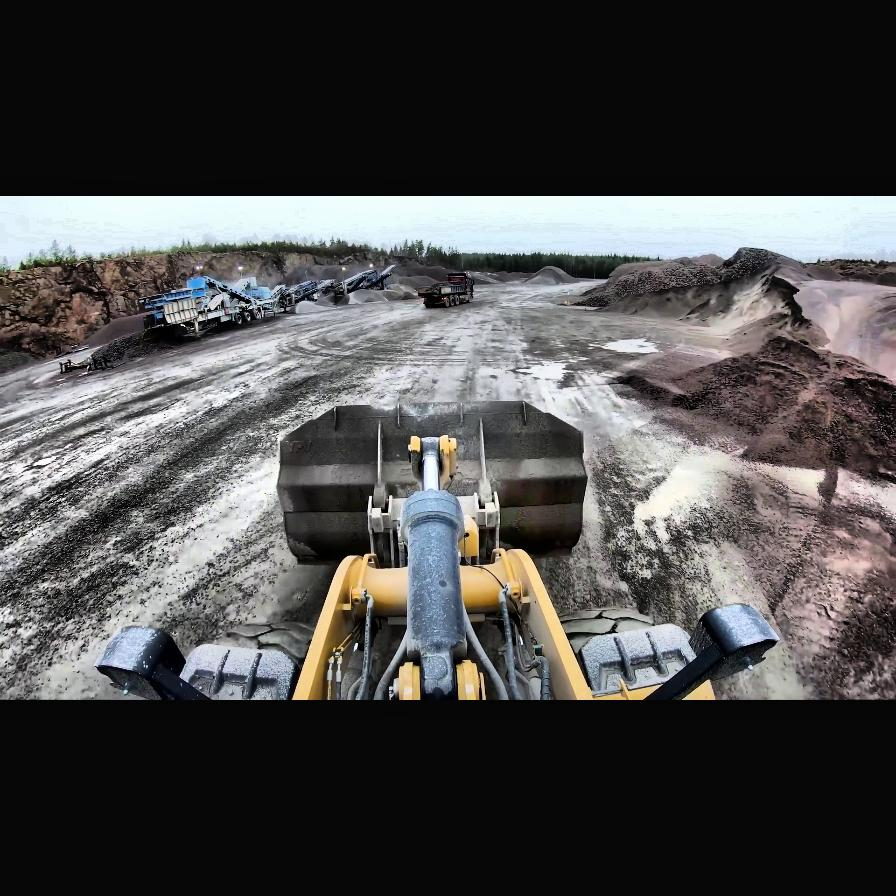anchor: (408, 435, 457, 493)
pile of gravel: (614, 332, 896, 484), (587, 247, 817, 331), (804, 260, 894, 288), (321, 286, 401, 304), (518, 266, 582, 284)
